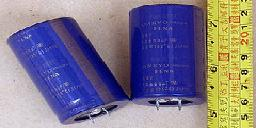Electrolytic Capacitor: (2, 15, 129, 125), (129, 4, 210, 124)
